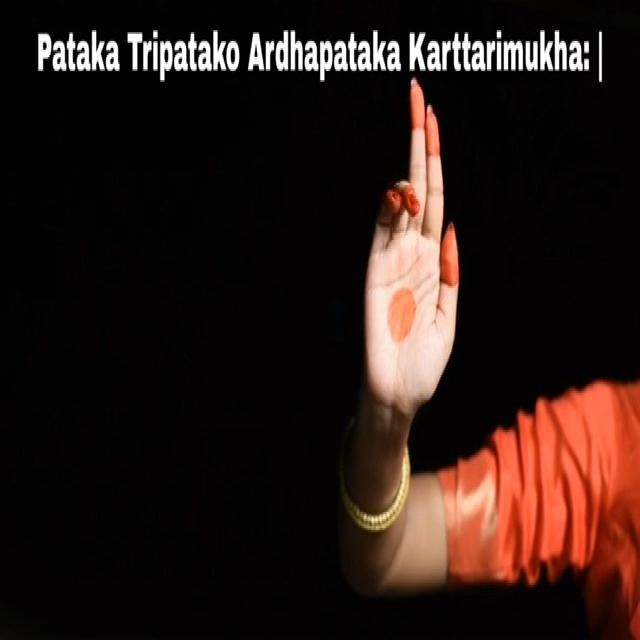Ardhapataka: (341, 73, 482, 434)
bangle: (324, 465, 428, 536)
text: (35, 20, 612, 86)
